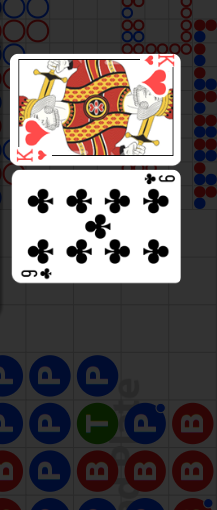9C: (20, 266, 55, 280)
KH: (143, 54, 176, 67)
